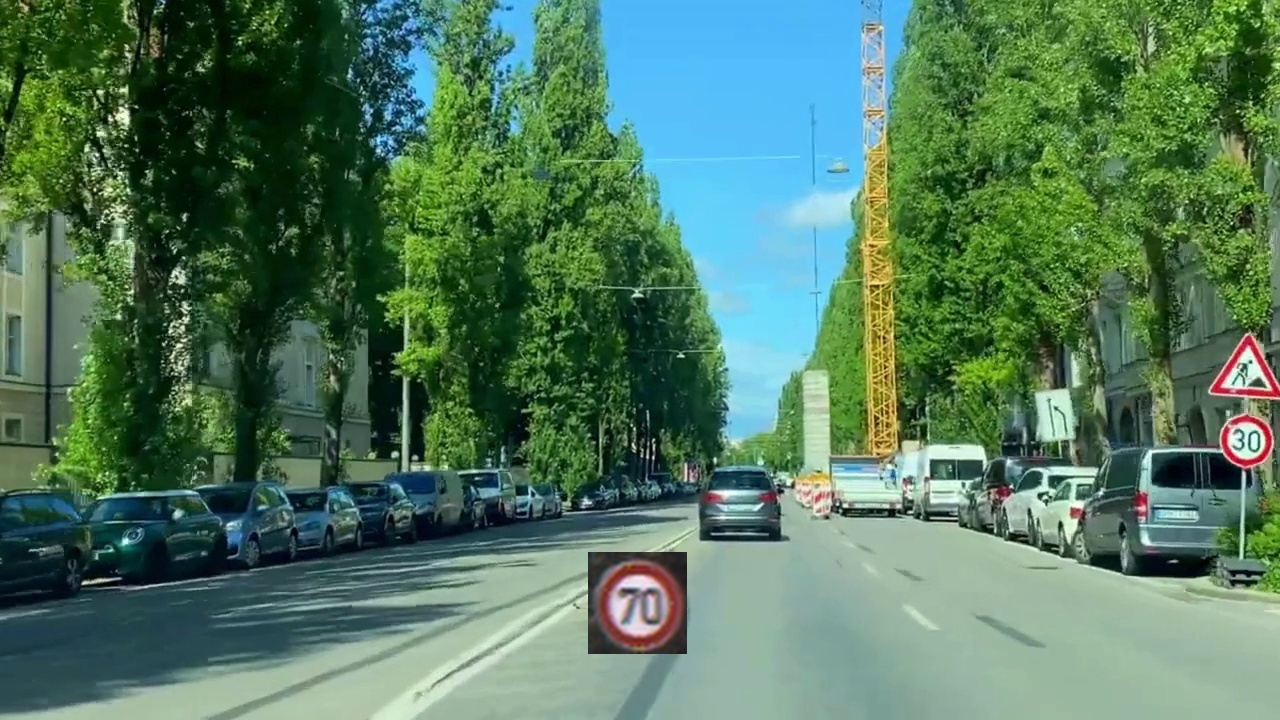Speed 70: (588, 552, 687, 654)
